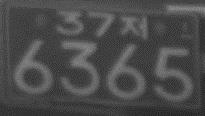3: (59, 40, 101, 97), (56, 9, 83, 34)
5: (153, 47, 194, 103)
6: (13, 38, 54, 96), (105, 43, 146, 100)
7: (86, 9, 115, 37)
저: (118, 13, 149, 40)
